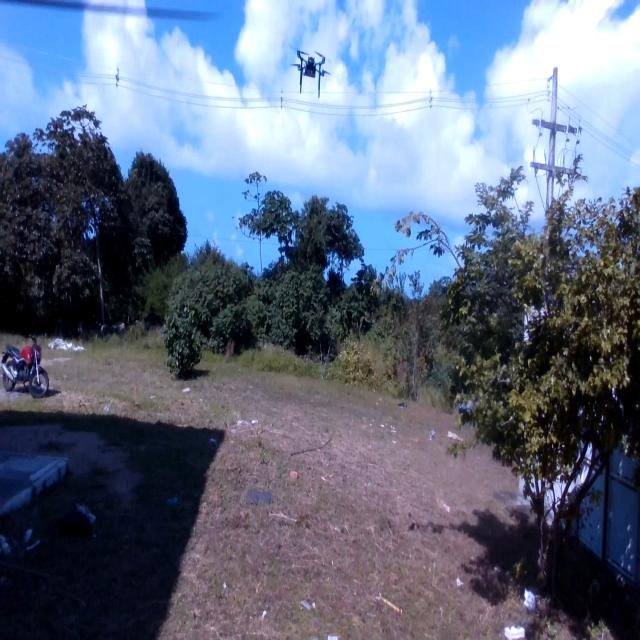-uav-: (285, 33, 337, 123)
